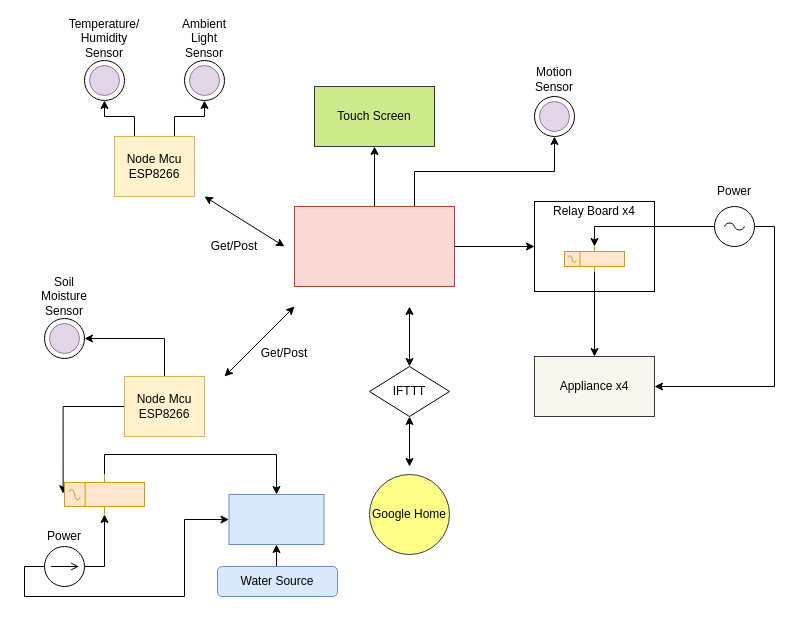
Some shapes in this 800 by 622 pixel diagram are drawn without their labels. Here are the shapes that lost their labels. From the top down, the box of each, then its label:
(294, 206, 454, 286): Raspberry Pi 3
(64, 474, 144, 514): Relay
(228, 494, 324, 544): Water Pump
